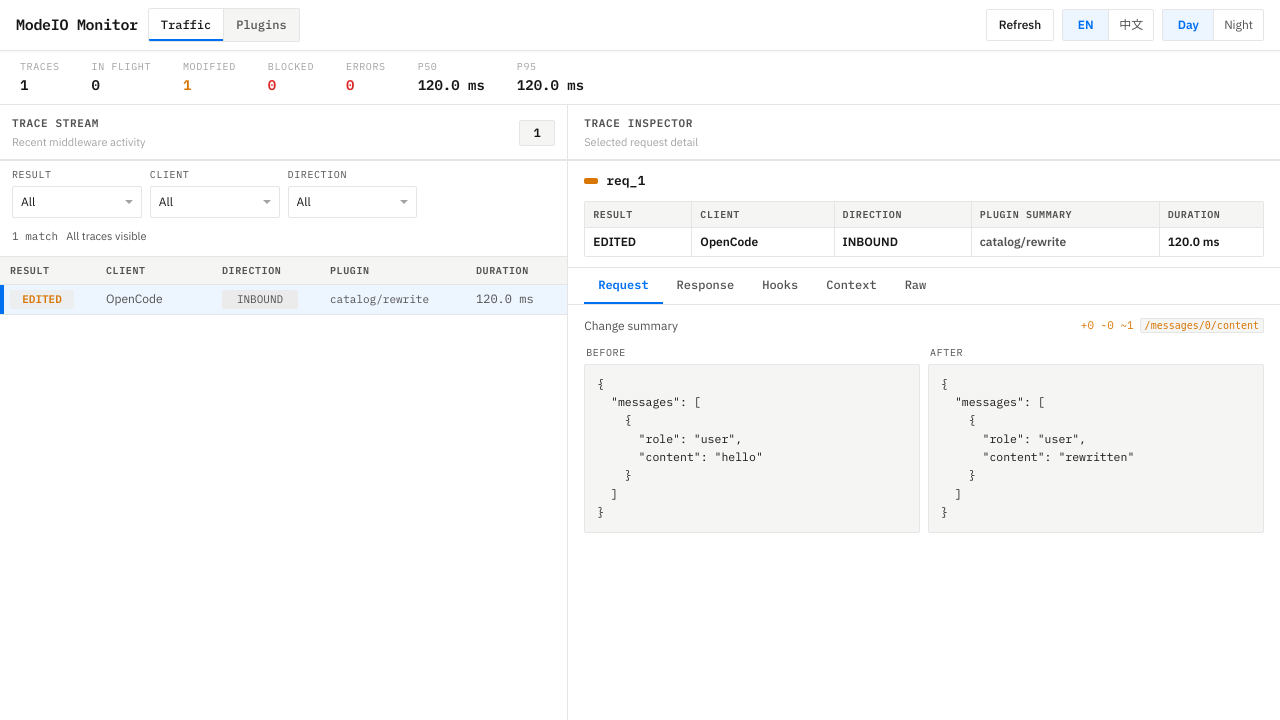
App plugin workspace › navigates from the traffic table into the matching plugin inspector
What coordinates should you click on to do the following:
click the button "catalog/rewrite" in the row of "req_1"
I would click on:
 (380, 299)
Its box is [330,291,429,308].
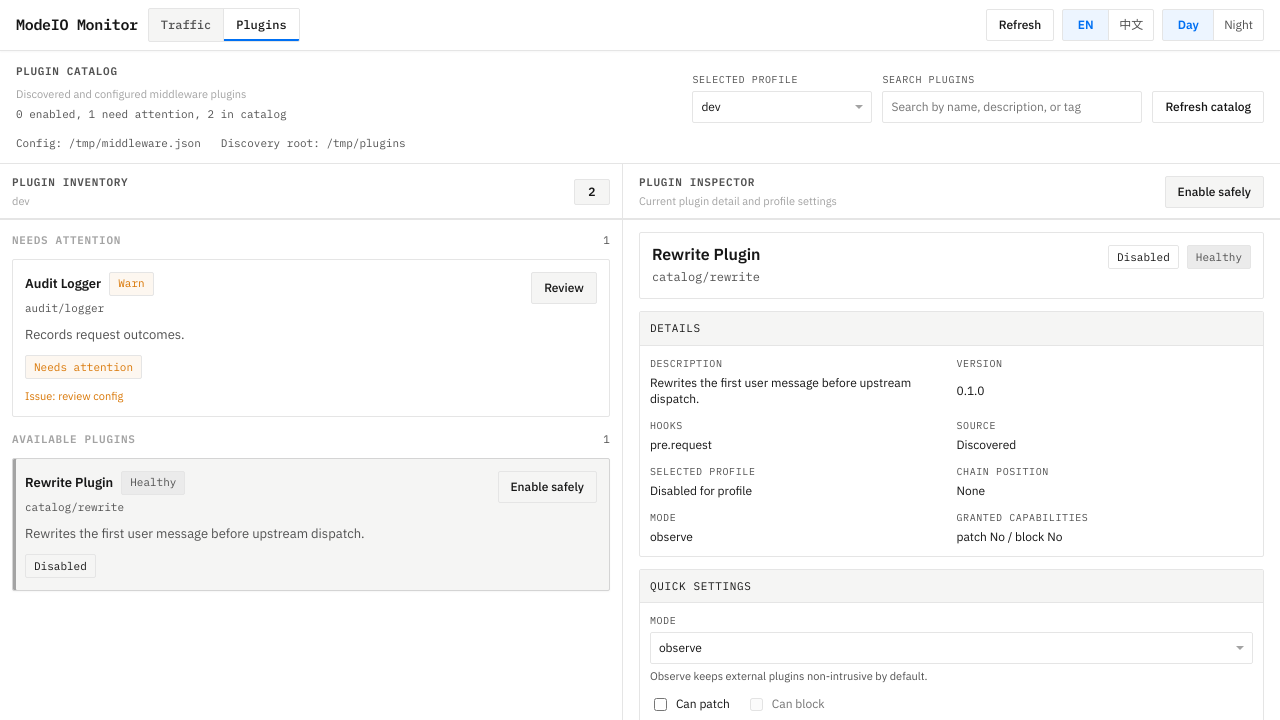
Expected: the tab "Plugins" is shown, [223,9,299,41]
Expected: the text "Rewrite Plugin" below "Available plugins" is shown, [25,474,113,491]
Expected: the text with class "select__value" below "Search plugins" reads "dev", [701,98,721,114]
